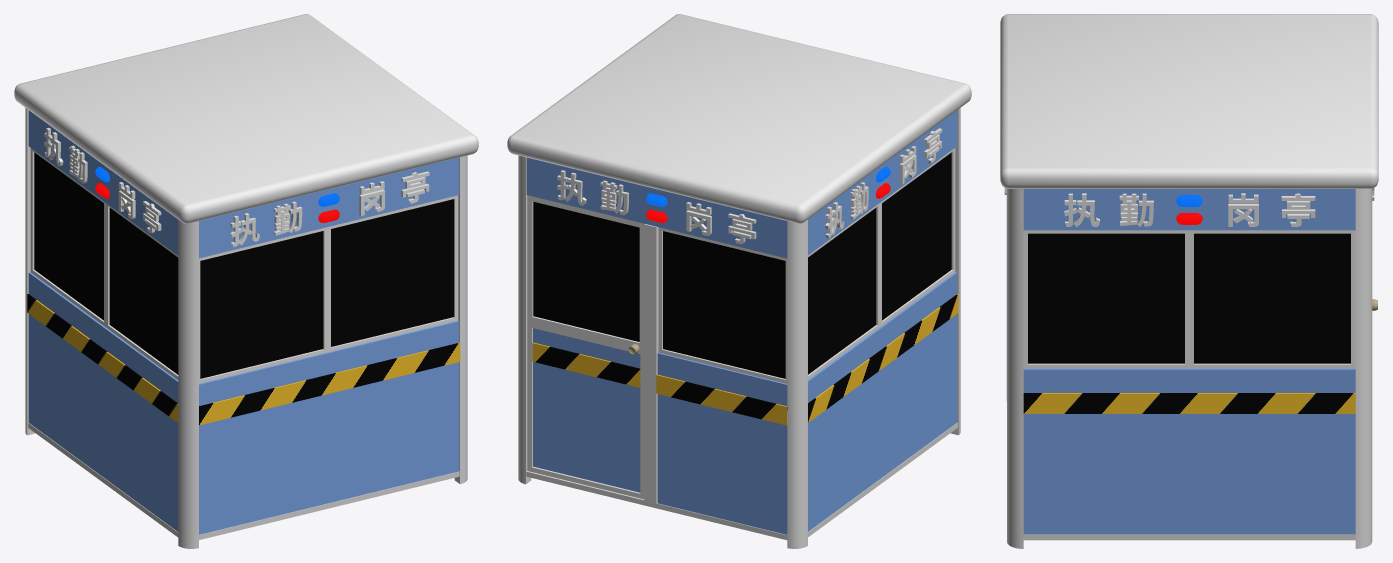
Rendered from station.glb.
3 renders of one model, left to right at view 1: azimuth 30°, elevation 25°; view 2: azimuth 150°, elevation 25°; view 3: azimuth 270°, elevation 25°, orthographic. The views are drawn at different scales.
Visible parts, largest first — view 1: 顶板, 墙_instance, 窗玻璃_instance, 墙_instance_2, 窗玻璃_instance_2, 挡板_instance, 管道_1, 警示带_instance, 窗框_instance, 挡板_instance_2, 警示带_instance_2, 管道_0 (+7 smaller); view 2: 顶板, 墙_instance_2, 墙1, 窗玻璃_instance_2, 窗玻璃, 门板, 门玻璃, 挡板_instance_3, 管道_2, 门框, 立柱, 挡板_instance_2 (+12 smaller); view 3: 顶板, 墙, 窗玻璃_2, 挡板, 警示带_2, 管道_3, 管道_0, 窗框_2, 底板, 勤, 岗, 亭 (+1 smaller).
Part boxes in pixels (x1,y1,x2,y2): 顶板: [14, 14, 478, 223]; 墙_instance: [199, 320, 459, 534]; 窗玻璃_instance: [200, 199, 453, 378]; 墙_instance_2: [28, 272, 178, 531]; 窗玻璃_instance_2: [34, 152, 178, 374]; 挡板_instance: [199, 157, 459, 258]; 管道_1: [178, 220, 198, 548]; 警示带_instance: [199, 342, 460, 425]; 窗框_instance: [199, 195, 458, 383]; 挡板_instance_2: [28, 110, 178, 255]; 警示带_instance_2: [27, 294, 178, 422]; 管道_0: [454, 155, 467, 484]; 顶板: [507, 14, 971, 223]; 墙_instance_2: [808, 272, 957, 531]; 墙1: [657, 352, 787, 534]; 窗玻璃_instance_2: [808, 152, 951, 374]; 窗玻璃: [663, 231, 785, 378]; 门板: [533, 328, 640, 492]; 门玻璃: [533, 201, 639, 341]; 挡板_instance_3: [526, 157, 787, 258]; 管道_2: [787, 219, 807, 548]; 门框: [527, 195, 644, 499]; 立柱: [644, 224, 658, 504]; 挡板_instance_2: [808, 110, 957, 255]; 顶板: [1000, 14, 1378, 188]; 墙: [1023, 368, 1355, 534]; 窗玻璃_2: [1028, 233, 1350, 363]; 挡板: [1023, 189, 1355, 230]; 警示带_2: [1023, 393, 1355, 413]; 管道_3: [1355, 188, 1372, 548]; 管道_0: [1007, 188, 1023, 548]; 窗框_2: [1023, 230, 1355, 368]; 底板: [1023, 534, 1355, 540]; 勤: [1119, 193, 1153, 226]; 岗: [1228, 193, 1258, 226]; 亭: [1281, 193, 1315, 226].
Size of the model in its own units: 2.5 by 2.78 by 2.5.
8 materials, 1 textured.
